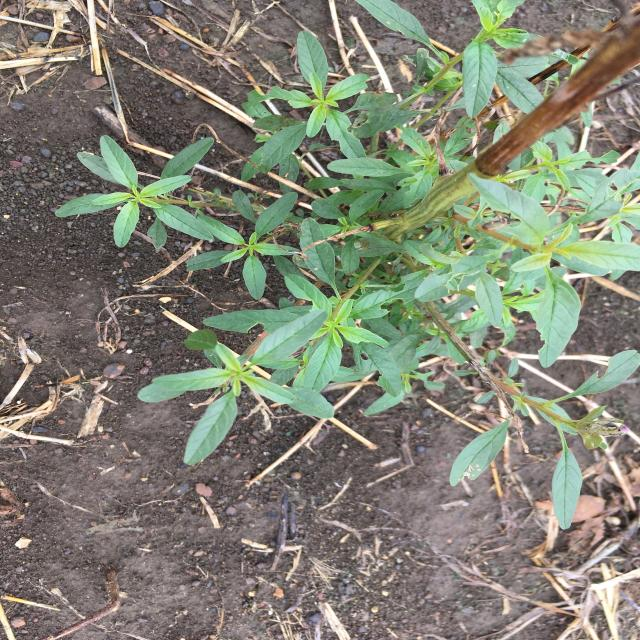Waterhemp: (55, 1, 640, 529)
